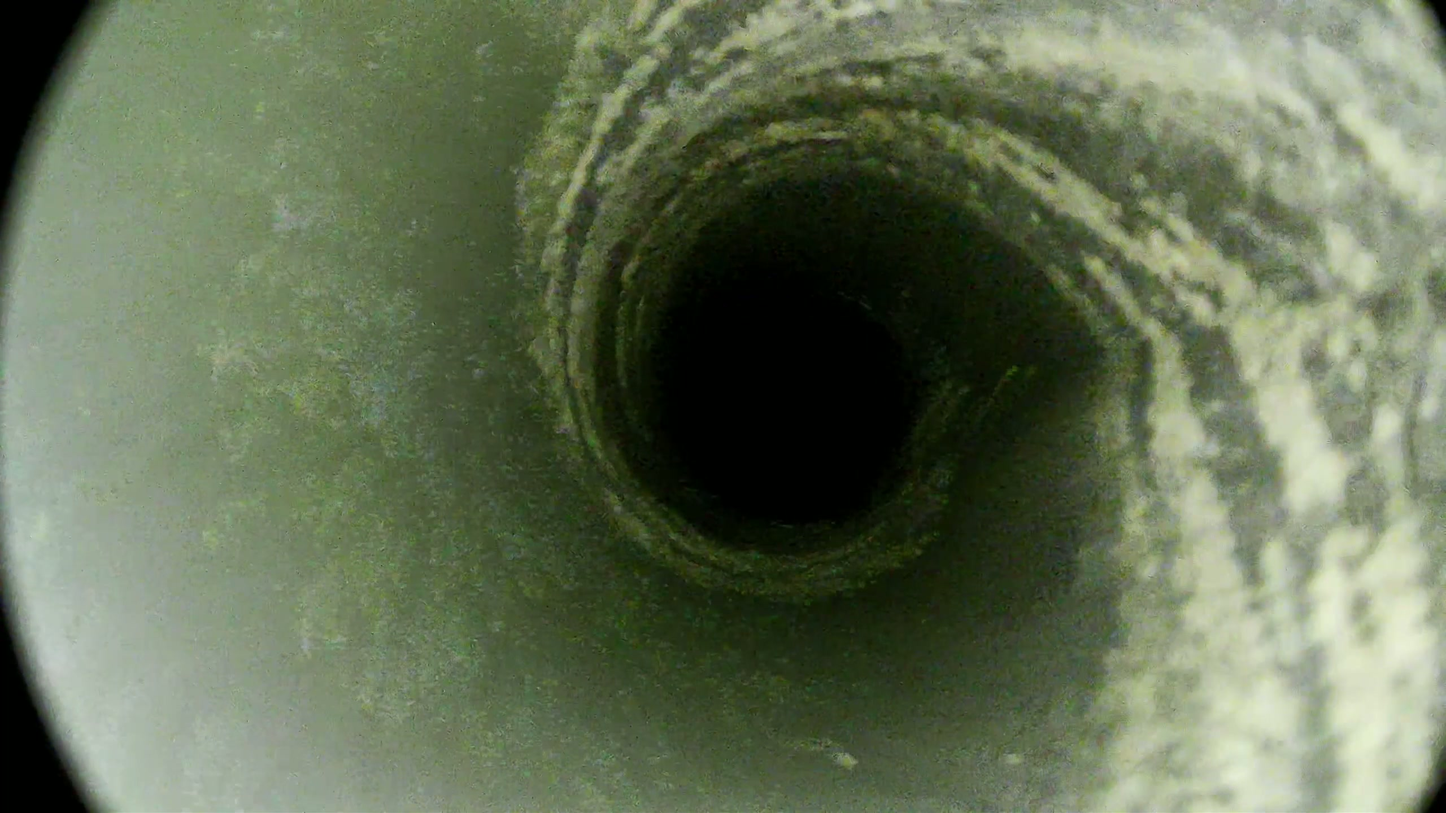hole: (676, 288, 906, 516)
